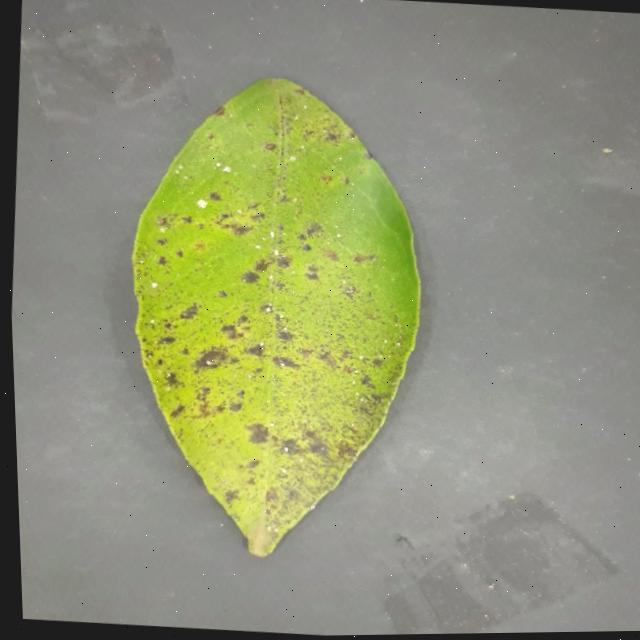greasy_spot: (133, 77, 419, 555)
